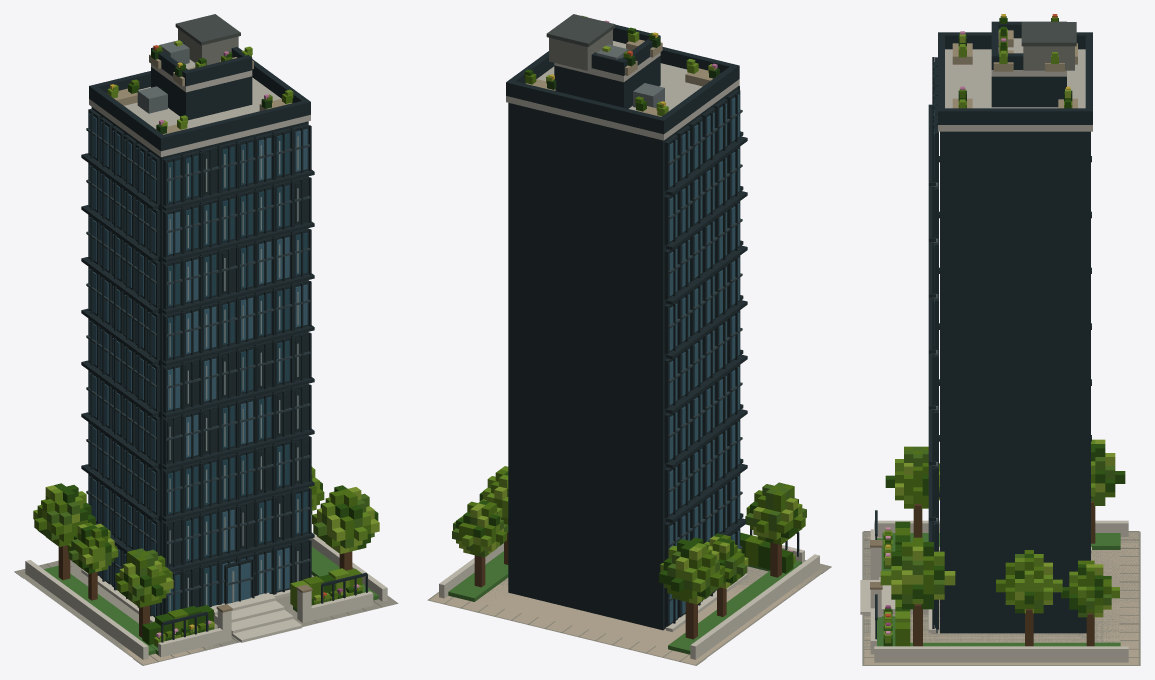
File: SM_Mapa_028.fbx
3 views of the same model, side by side, from view 1: azimuth 30°, elevation 25°; view 2: azimuth 150°, elevation 25°; view 3: azimuth 270°, elevation 25° (orthographic). The views are drawn at different scales.
Parts seen in each view (by area): view 1: SM_Mapa_028; view 2: SM_Mapa_028; view 3: SM_Mapa_028.
Part boxes in pixels (box(x1,y1,x2,y2)): SM_Mapa_028: box(14, 14, 398, 665); SM_Mapa_028: box(427, 14, 831, 665); SM_Mapa_028: box(860, 14, 1140, 665).
Bounding box in the file's own units: 14 × 12.17 × 27.74.
